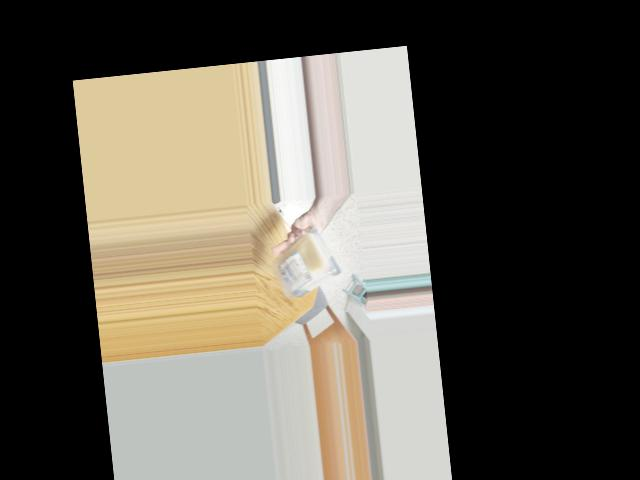cheese: (274, 241, 342, 299)
